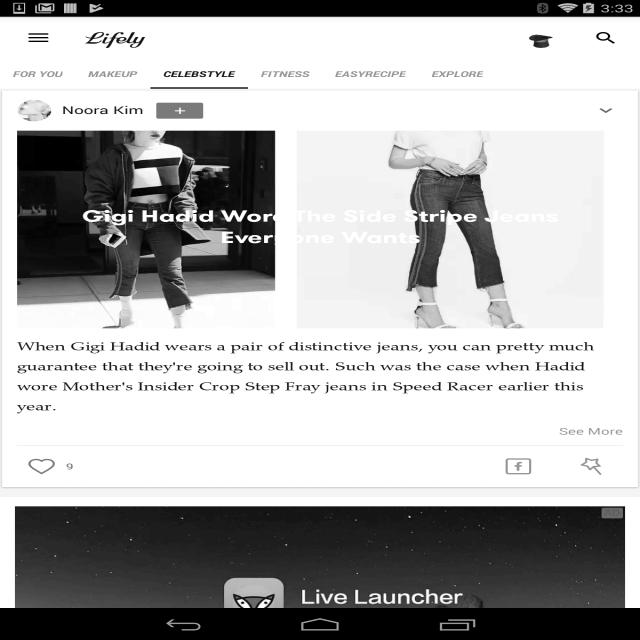ImageButton: (9, 17, 68, 59)
ImageView: (17, 131, 623, 328), (15, 506, 625, 640), (561, 447, 623, 486), (500, 28, 582, 52), (491, 449, 546, 484), (17, 451, 66, 482), (85, 26, 145, 50), (156, 102, 203, 119), (17, 100, 51, 121), (589, 101, 623, 120), (602, 508, 623, 518)
TextView: (17, 339, 623, 422), (17, 205, 623, 254), (580, 22, 632, 54), (62, 103, 143, 117), (544, 425, 638, 437), (163, 68, 235, 80), (335, 68, 406, 80), (432, 68, 483, 80), (88, 68, 138, 80), (13, 68, 62, 80), (261, 68, 309, 80), (66, 461, 73, 472)
